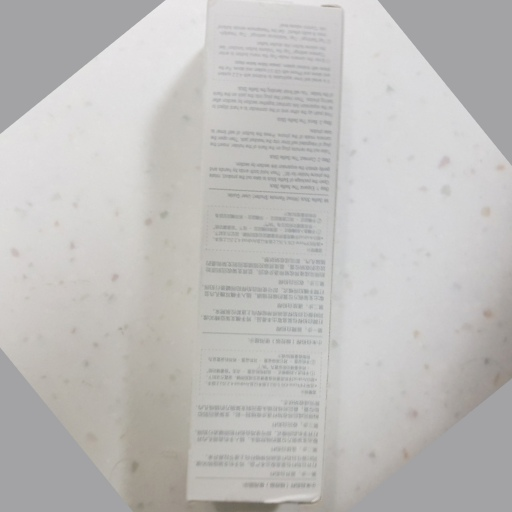Paper_0: (185, 1, 348, 508)
